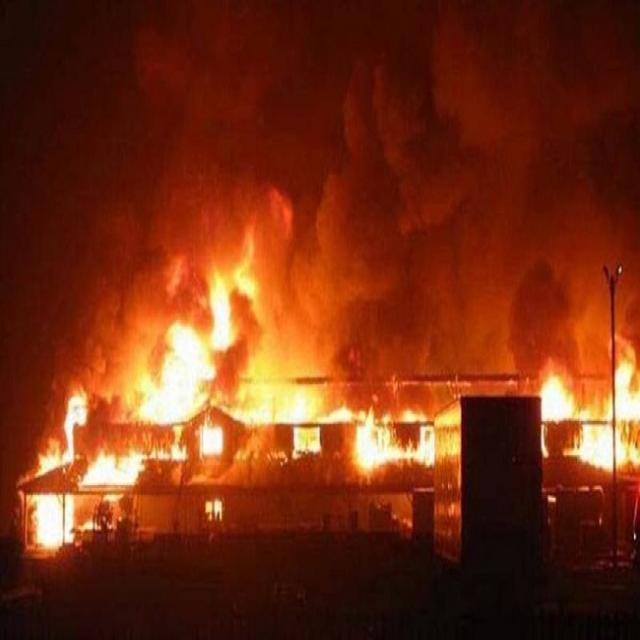fire: (130, 237, 268, 412), (536, 283, 640, 488), (49, 390, 96, 466), (599, 348, 640, 415), (534, 360, 577, 416), (586, 424, 628, 470), (84, 456, 140, 489), (276, 356, 304, 421), (354, 424, 394, 462), (38, 500, 72, 543), (196, 492, 232, 532), (399, 428, 439, 464), (192, 423, 231, 457), (320, 404, 358, 424)
